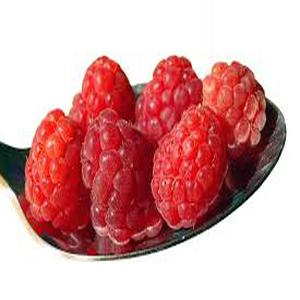raspb: (19, 57, 281, 264)
